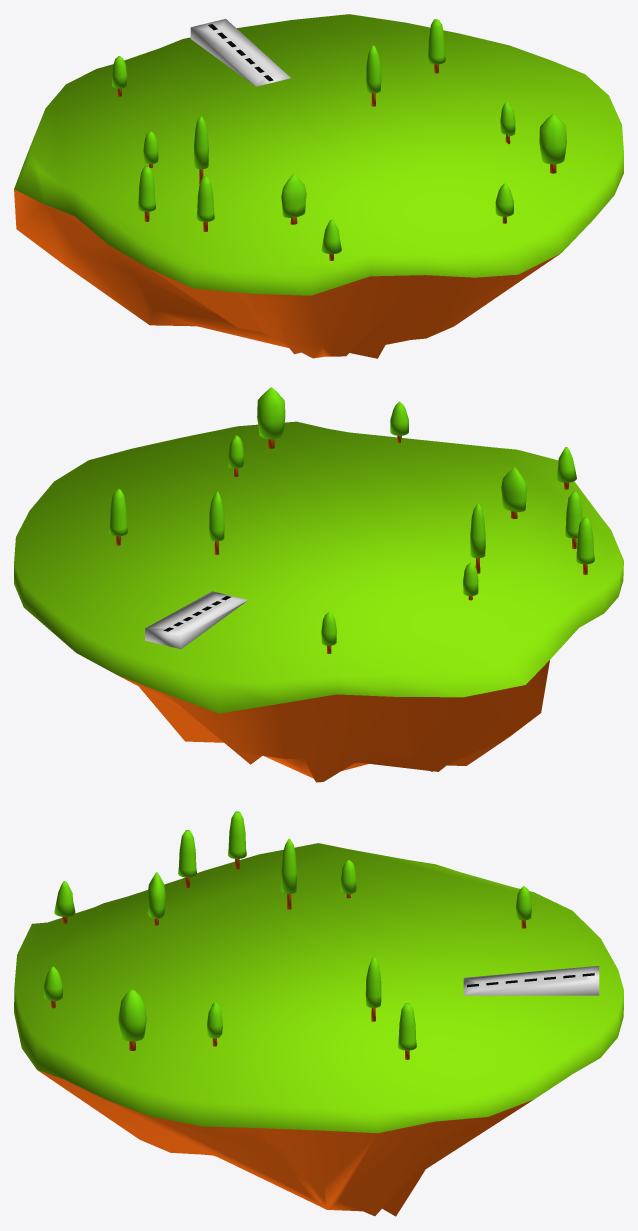
Rendered from skillLand.glb.
The picture shows the model from 3 angles, top to bottom: view 1: azimuth 30°, elevation 25°; view 2: azimuth 150°, elevation 25°; view 3: azimuth 270°, elevation 25°; orthographic projection. The views are drawn at different scales.
Parts seen in each view (by area): view 1: land, Cone, TreeBtm, Rail; view 2: land, Cone, TreeBtm, Rail; view 3: land, Cone, TreeBtm, Rail.
Part boxes in pixels (bbox=[...]): land: bbox=[14, 14, 623, 295]; Cone: bbox=[14, 189, 560, 358]; TreeBtm: bbox=[112, 19, 566, 260]; Rail: bbox=[190, 18, 290, 86]; land: bbox=[14, 421, 623, 713]; Cone: bbox=[118, 660, 549, 782]; TreeBtm: bbox=[109, 387, 594, 653]; Rail: bbox=[145, 591, 247, 649]; land: bbox=[14, 843, 623, 1133]; Cone: bbox=[37, 1070, 532, 1216]; TreeBtm: bbox=[44, 811, 531, 1059]; Rail: bbox=[463, 966, 599, 995].
Size of the model in its own units: 6.06 by 3.2 by 5.92.
